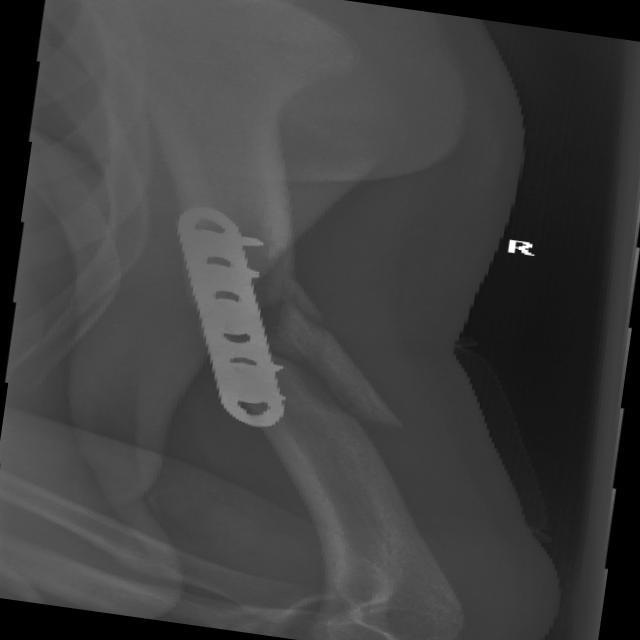humerus fracture: (222, 278, 488, 462)
